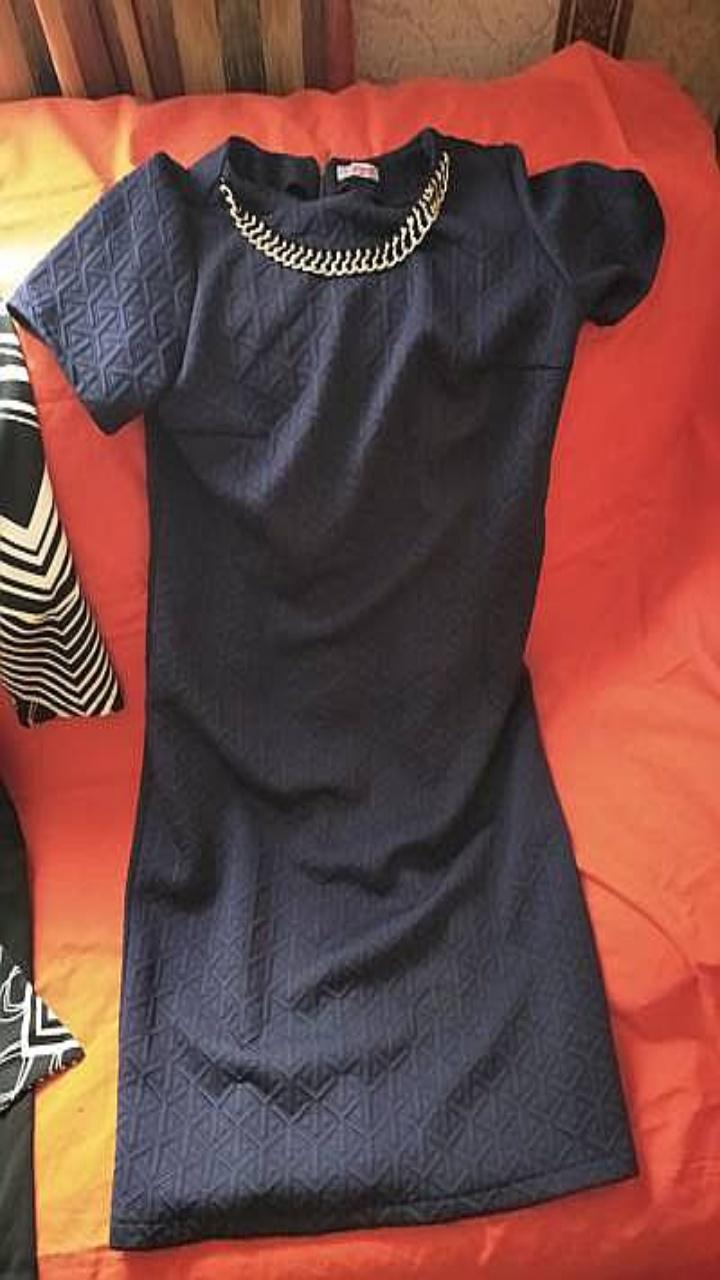Dresses: (8, 126, 663, 1247)
